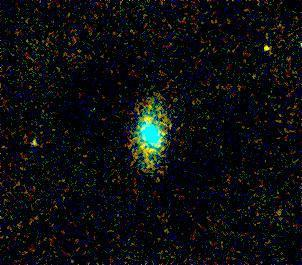star: (251, 34, 281, 64)
